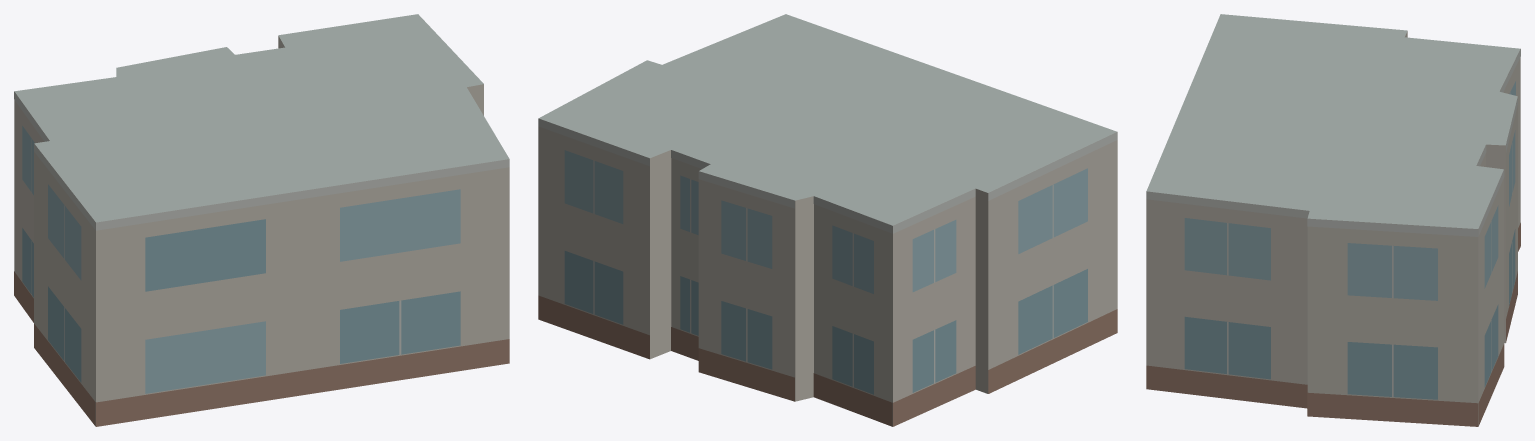
The model's file is survey-upis-32654702.glb.
3 renders of one model, left to right at view 1: azimuth 30°, elevation 25°; view 2: azimuth 150°, elevation 25°; view 3: azimuth 270°, elevation 25°, orthographic. The views are drawn at different scales.
Visible parts, largest first — view 1: survey-upis-32654702.tmp; view 2: survey-upis-32654702.tmp; view 3: survey-upis-32654702.tmp.
Part boxes in pixels (bbox=[...]): survey-upis-32654702.tmp: bbox=[14, 14, 509, 426]; survey-upis-32654702.tmp: bbox=[538, 14, 1117, 426]; survey-upis-32654702.tmp: bbox=[1146, 14, 1520, 426].
Bounding box in the file's own units: 14.24 × 6.1 × 10.47.
